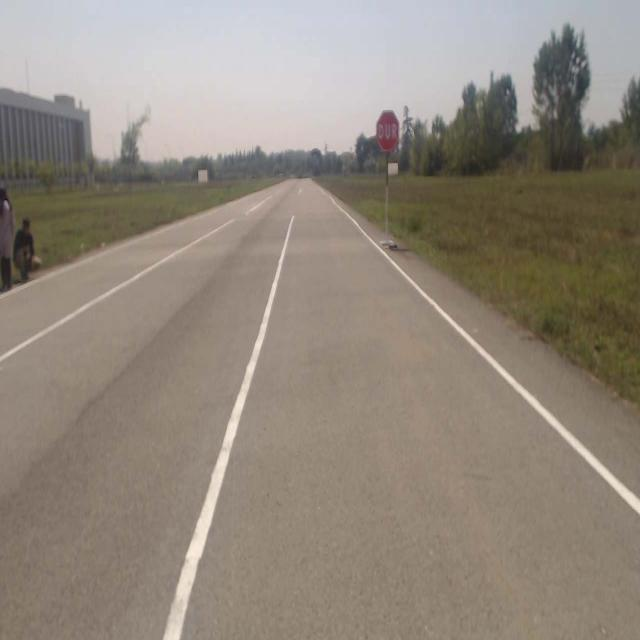dur: (376, 110, 398, 154)
